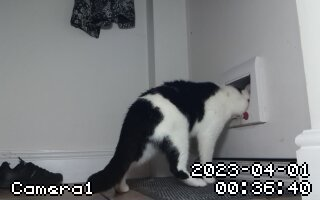bad: (80, 71, 261, 196)
